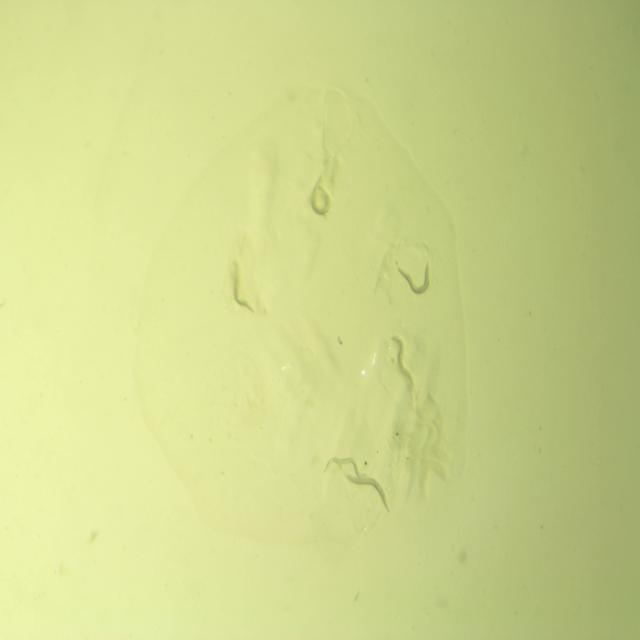worm: (343, 470, 393, 515), (230, 260, 256, 316), (388, 333, 414, 386), (396, 260, 432, 298), (322, 454, 369, 482), (308, 173, 332, 220)
